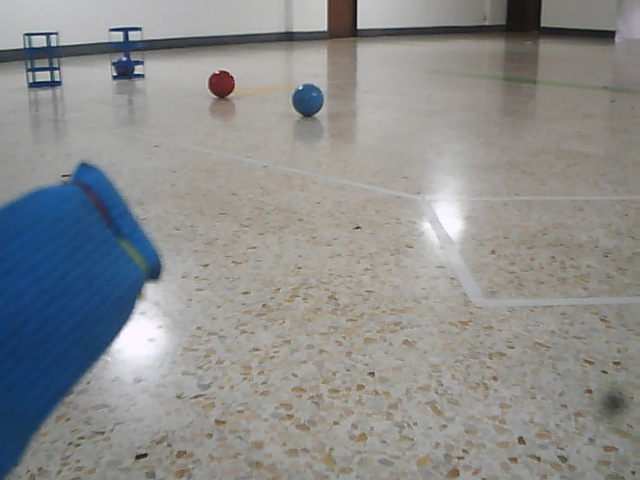Blue ball: (292, 82, 325, 118)
Cyro: (20, 30, 65, 91), (106, 23, 148, 82)
Purple ball: (113, 55, 136, 78)
Red ball: (206, 69, 237, 99)
